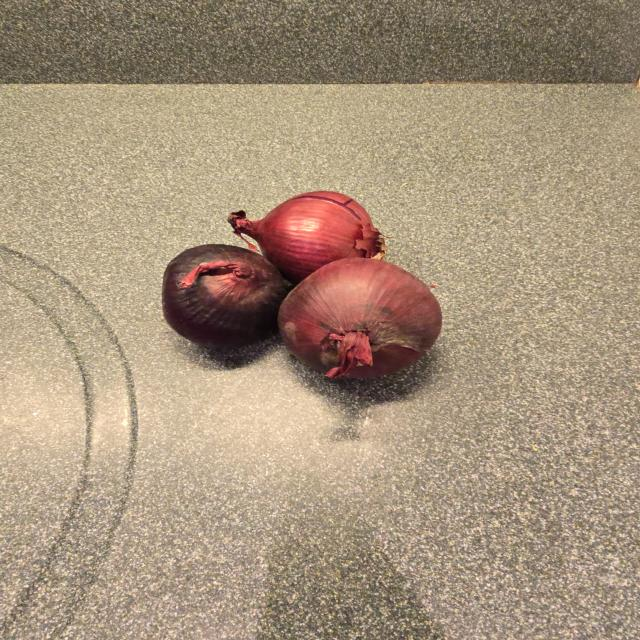Onion: (278, 258, 442, 379), (228, 191, 383, 284), (162, 244, 292, 348)
